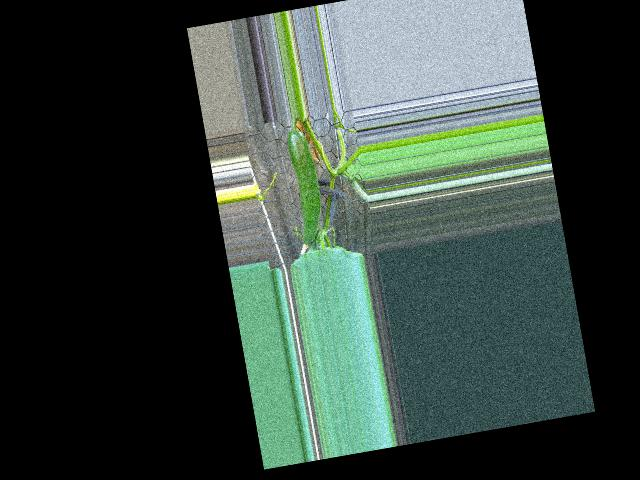cucumber: (284, 127, 329, 244)
